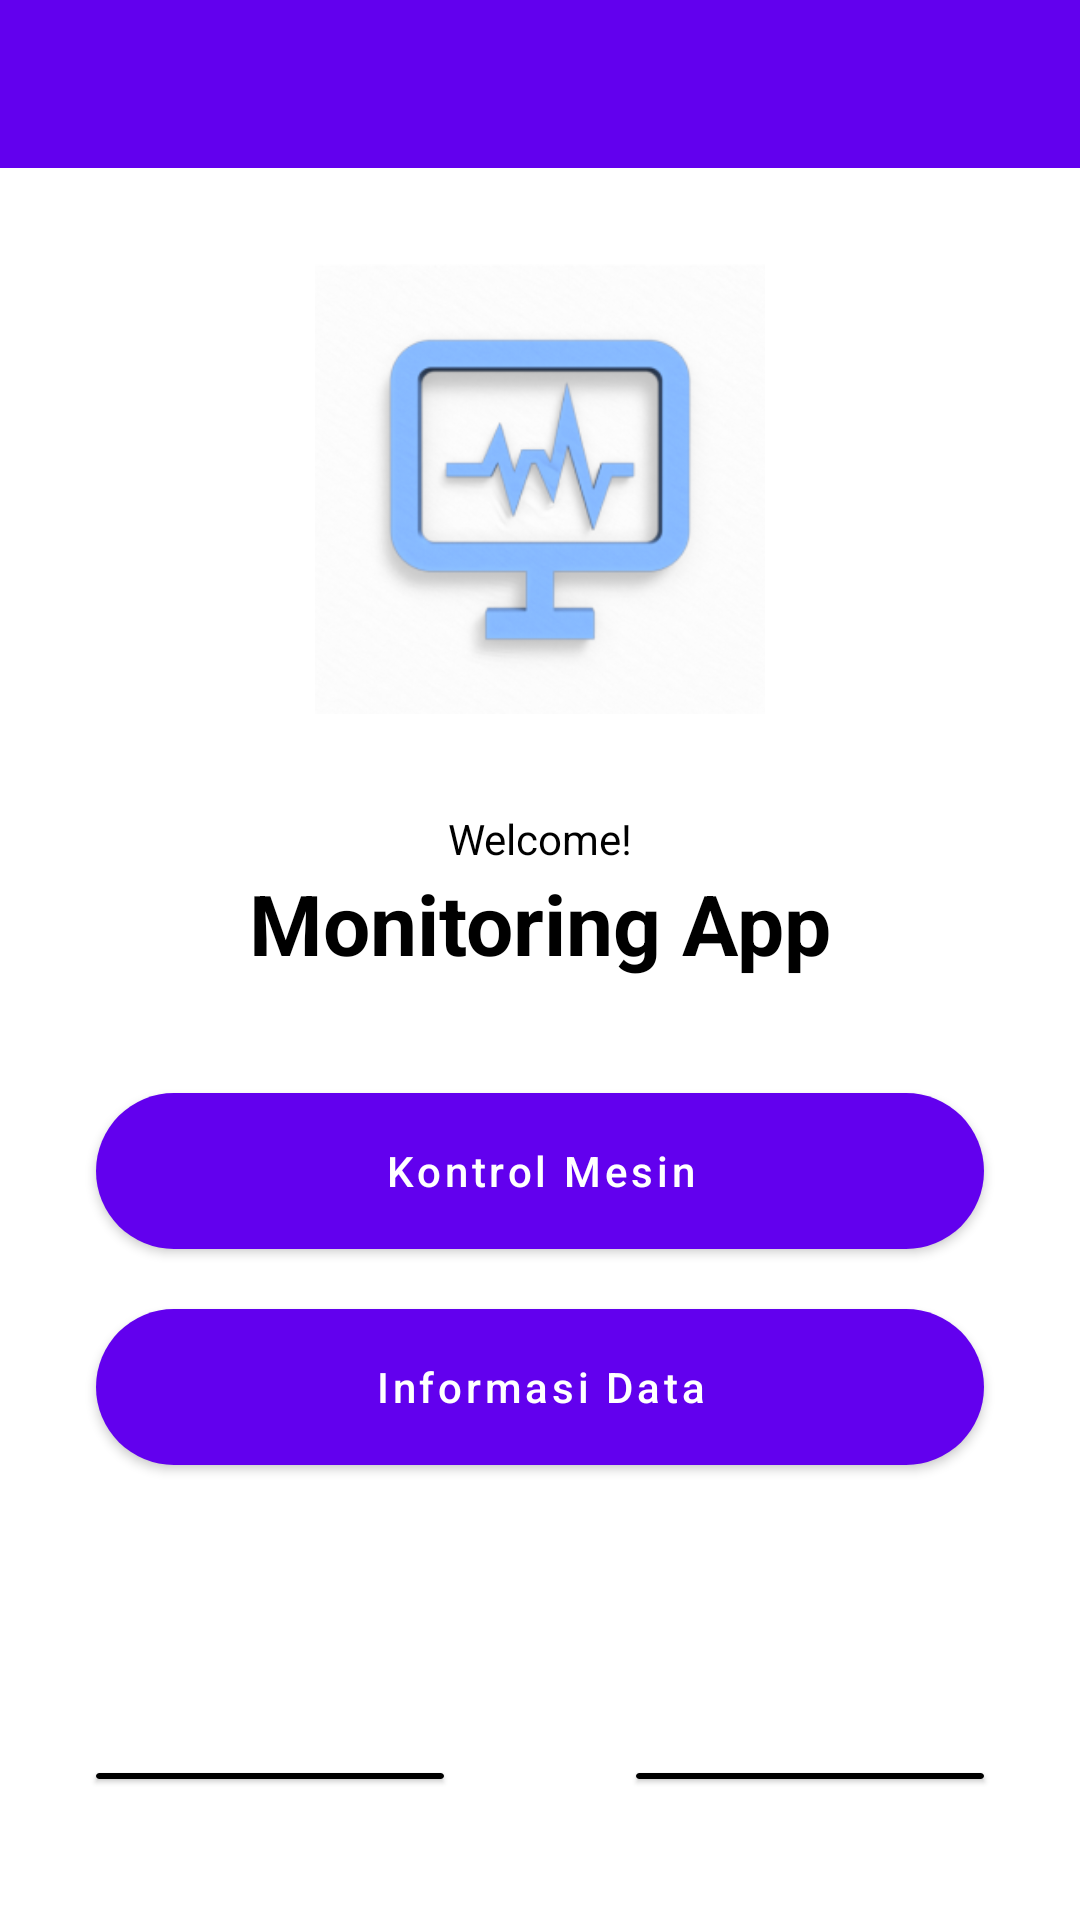

Icon bounding boxes for this 1080px×1920px phone screenshot, format bbox=(x1, y1, x2, y2):
monitoring: bbox=(383, 339, 691, 653)
